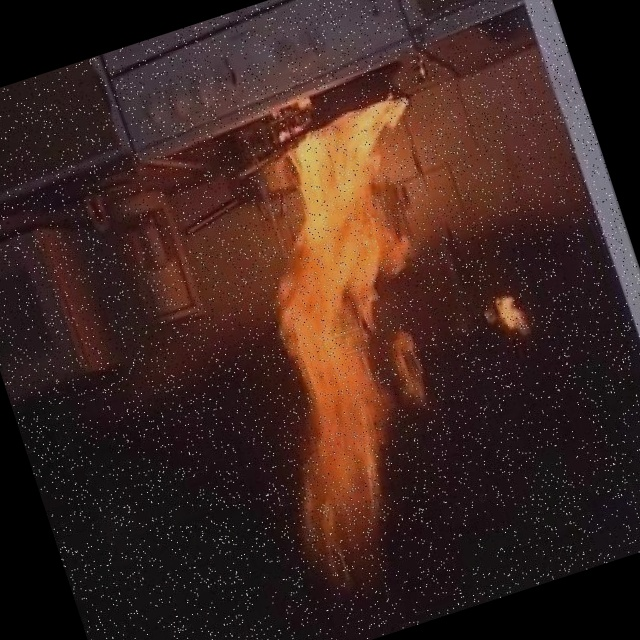fire: (157, 32, 602, 584)
